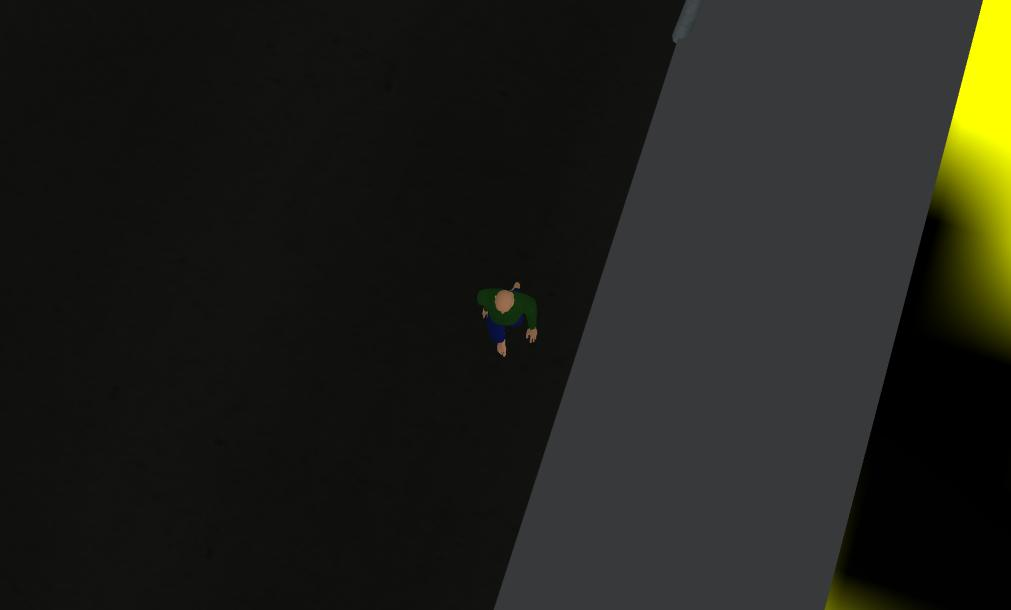human: (473, 272, 559, 355)
